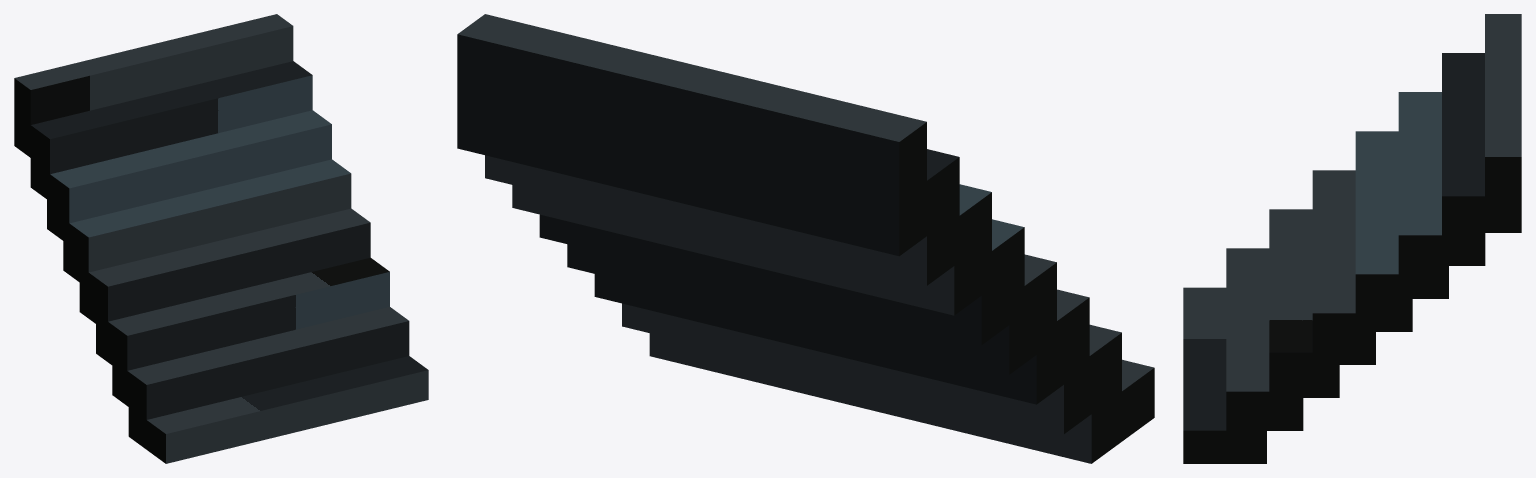
The model's file is Stairs.fbx.
The picture shows the model from 3 angles, left to right: view 1: azimuth 30°, elevation 25°; view 2: azimuth 150°, elevation 25°; view 3: azimuth 270°, elevation 25°; orthographic projection. The views are drawn at different scales.
Parts seen in each view (by area): view 1: Stairs; view 2: Stairs; view 3: Stairs.
Boxes of the visible parts, x1,y1,x2,y2 form: Stairs: (14,14,428,463); Stairs: (457,14,1154,463); Stairs: (1183,14,1521,463).
Bounding box in the file's own units: 400 × 400 × 400.
Materials: 1 (1 with a texture image).
